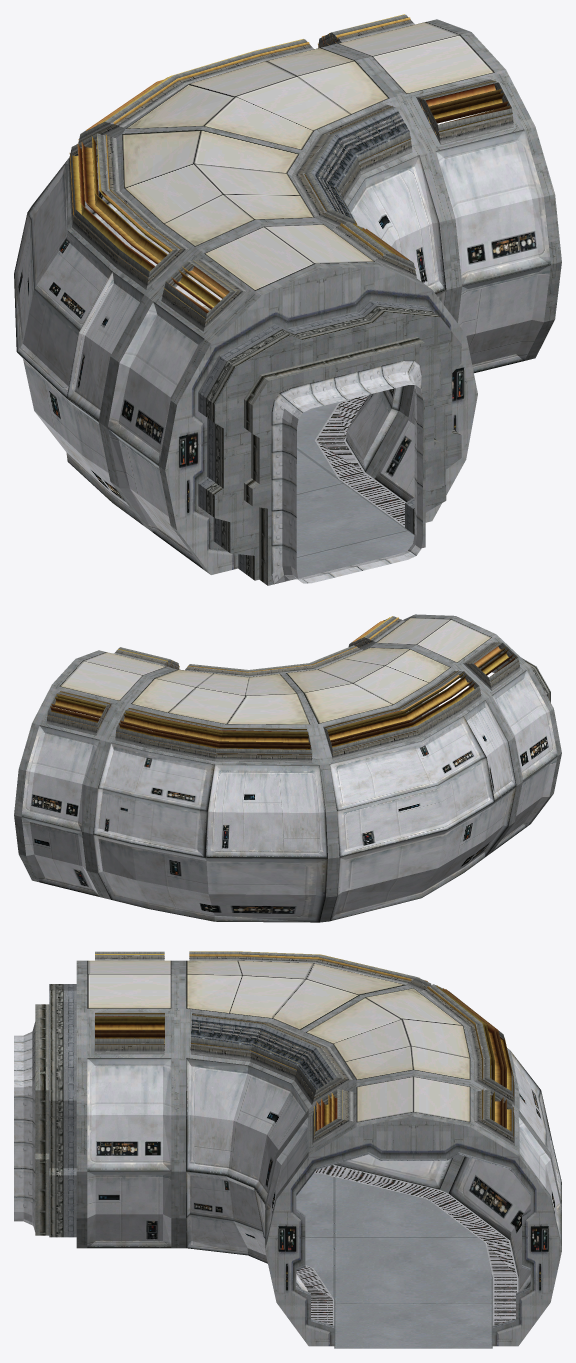
Rendered from poi_all_rebl_bunker_s01_r12_hallway6_mesh_r12.fbx.
3 views of the same model, one above another, from view 1: azimuth 30°, elevation 25°; view 2: azimuth 150°, elevation 25°; view 3: azimuth 270°, elevation 25° (orthographic). The views are drawn at different scales.
Visible parts, largest first — view 1: mesh_node; view 2: mesh_node; view 3: mesh_node.
Boxes of the visible parts, box(x1,y1,x2,y2) form: mesh_node: box(14, 14, 561, 585); mesh_node: box(14, 614, 561, 922); mesh_node: box(14, 951, 561, 1348).
Bounding box in the file's own units: 8.6 × 4.44 × 9.6.
